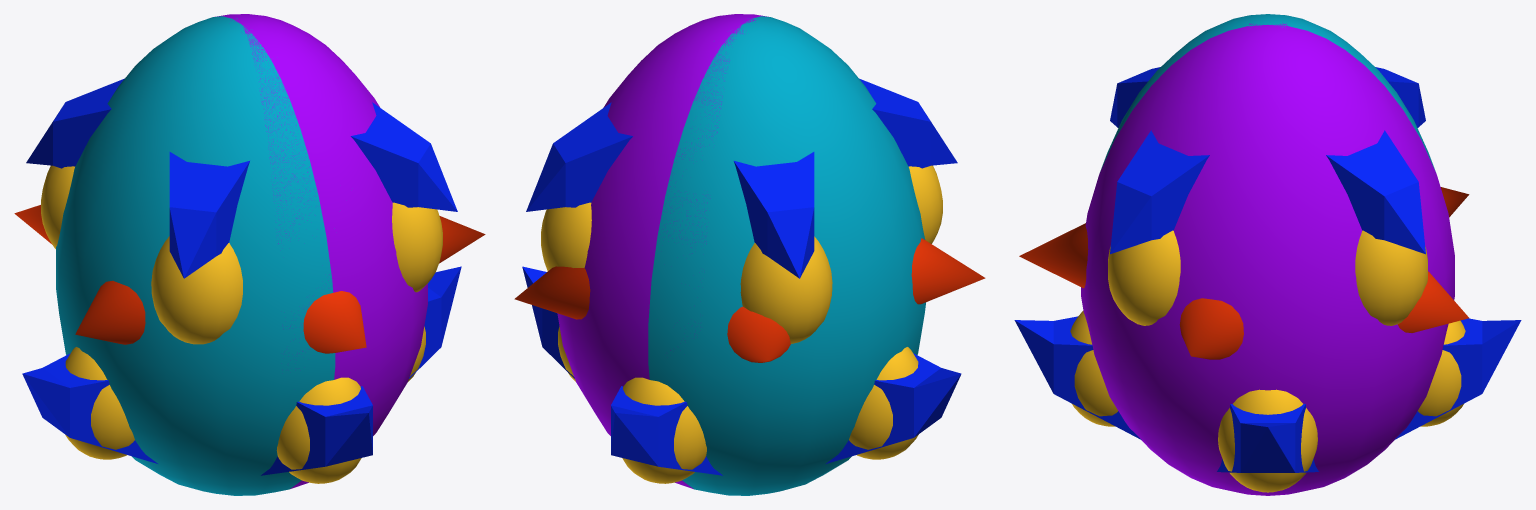
Rendered from Eggs_v2.fbx.
3 renders of one model, left to right at view 1: azimuth 30°, elevation 25°; view 2: azimuth 150°, elevation 25°; view 3: azimuth 270°, elevation 25°, orthographic.
Visible parts, largest first — view 1: pCube10, polySurface10; view 2: pCube10, polySurface10; view 3: polySurface10, pCube10.
Part boxes in pixels (<box>): pCube10: <box>14,16,485,495</box>; polySurface10: <box>41,14,442,488</box>; pCube10: <box>514,16,985,495</box>; polySurface10: <box>541,14,942,489</box>; polySurface10: <box>1070,23,1465,495</box>; pCube10: <box>1014,14,1521,472</box>.
Size of the model in its own units: 428 by 422 by 428.
